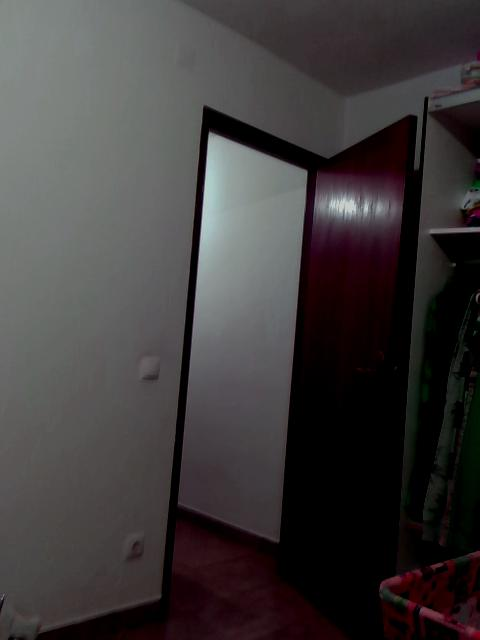open_door: (158, 99, 345, 618)
